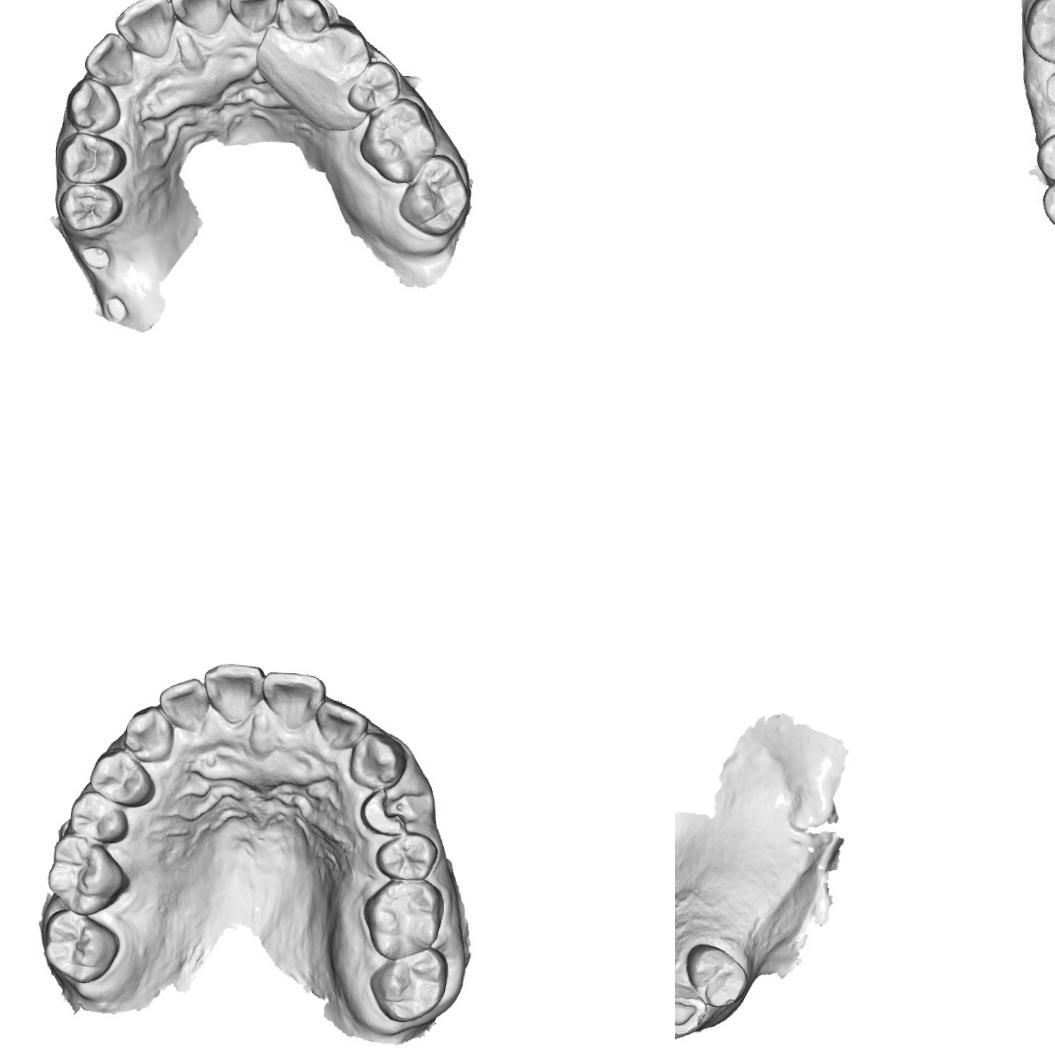canine: (347, 730, 409, 792), (121, 702, 176, 764), (65, 77, 123, 135), (275, 0, 330, 42), (675, 980, 710, 1037)
implant: (1042, 67, 1055, 113)
incisor: (201, 661, 264, 727), (112, 0, 175, 60), (260, 670, 326, 726), (156, 674, 210, 734), (82, 29, 137, 87), (314, 696, 370, 752), (168, 0, 232, 37), (226, 0, 279, 34)
molar: (356, 95, 440, 185), (360, 875, 446, 962), (46, 833, 134, 918), (366, 944, 450, 1026), (40, 907, 124, 986), (397, 153, 471, 238), (1031, 0, 1055, 63)
premolar: (681, 942, 751, 1010), (87, 748, 158, 808), (54, 130, 128, 185), (310, 22, 372, 84), (56, 180, 124, 235), (67, 789, 131, 843), (373, 831, 439, 883), (346, 59, 403, 114), (1037, 132, 1055, 180), (1044, 181, 1055, 227)
